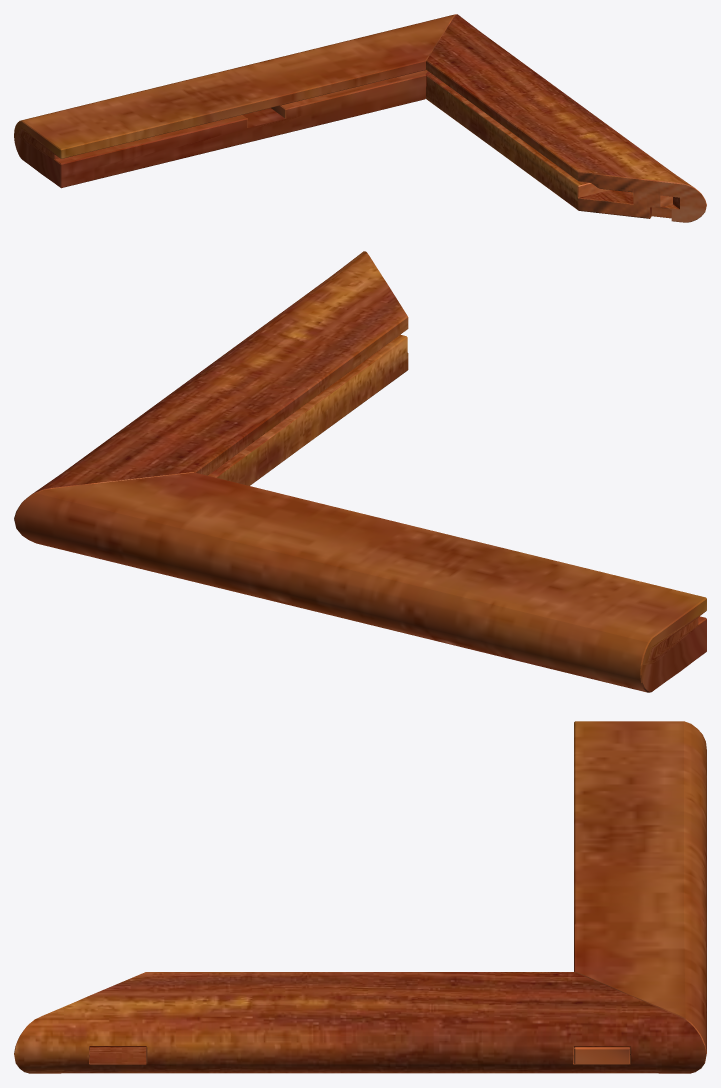
File: ytsy_J_H_dabian_2.FBX
3 renders of one model, top to bottom at view 1: azimuth 30°, elevation 25°; view 2: azimuth 150°, elevation 25°; view 3: azimuth 270°, elevation 25°, orthographic. The views are drawn at different scales.
Visible parts, largest first — view 1: ytsy_J_dabian_2; view 2: ytsy_J_dabian_2; view 3: ytsy_J_dabian_2.
Boxes of the visible parts, x1,y1,x2,y2 form: ytsy_J_dabian_2: [14, 14, 706, 222]; ytsy_J_dabian_2: [14, 251, 706, 692]; ytsy_J_dabian_2: [14, 721, 706, 1073].
Size of the model in its own units: 38.2 by 3.25 by 36.45.
